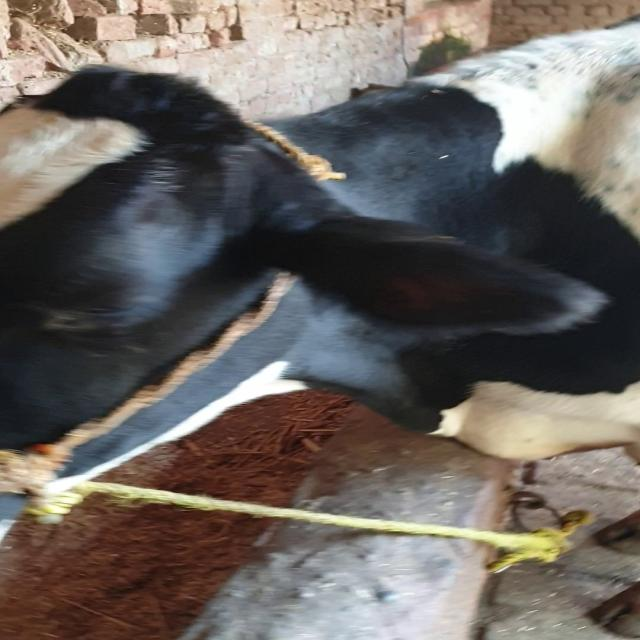cowFace: (0, 98, 237, 542)
